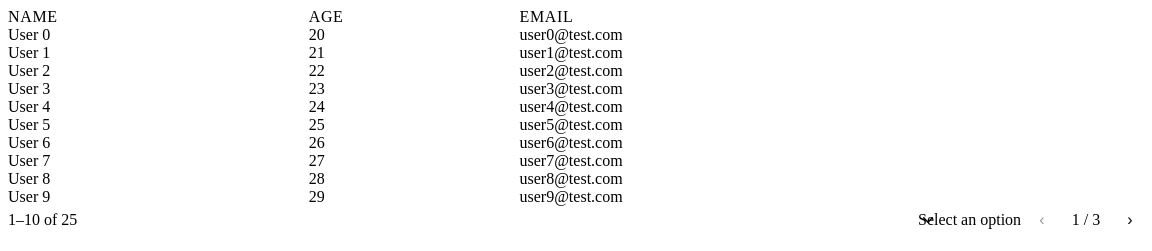
TableComponent › Pagination › should navigate to next page
The width and height of the screenshot is (1152, 251).
Click the button with class "lc-table-pagination__btn" showing "›".
click(1130, 220)  # box [1116,206,1144,234]
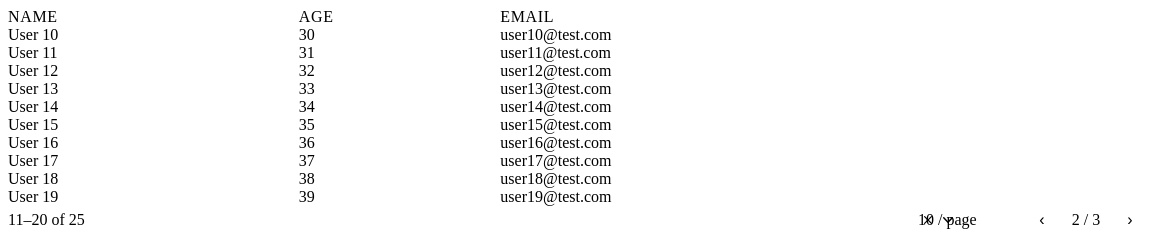
Now the text with class "lc-table-pagination__info" reads "11–20 of 25", box [8,211,85,228]
